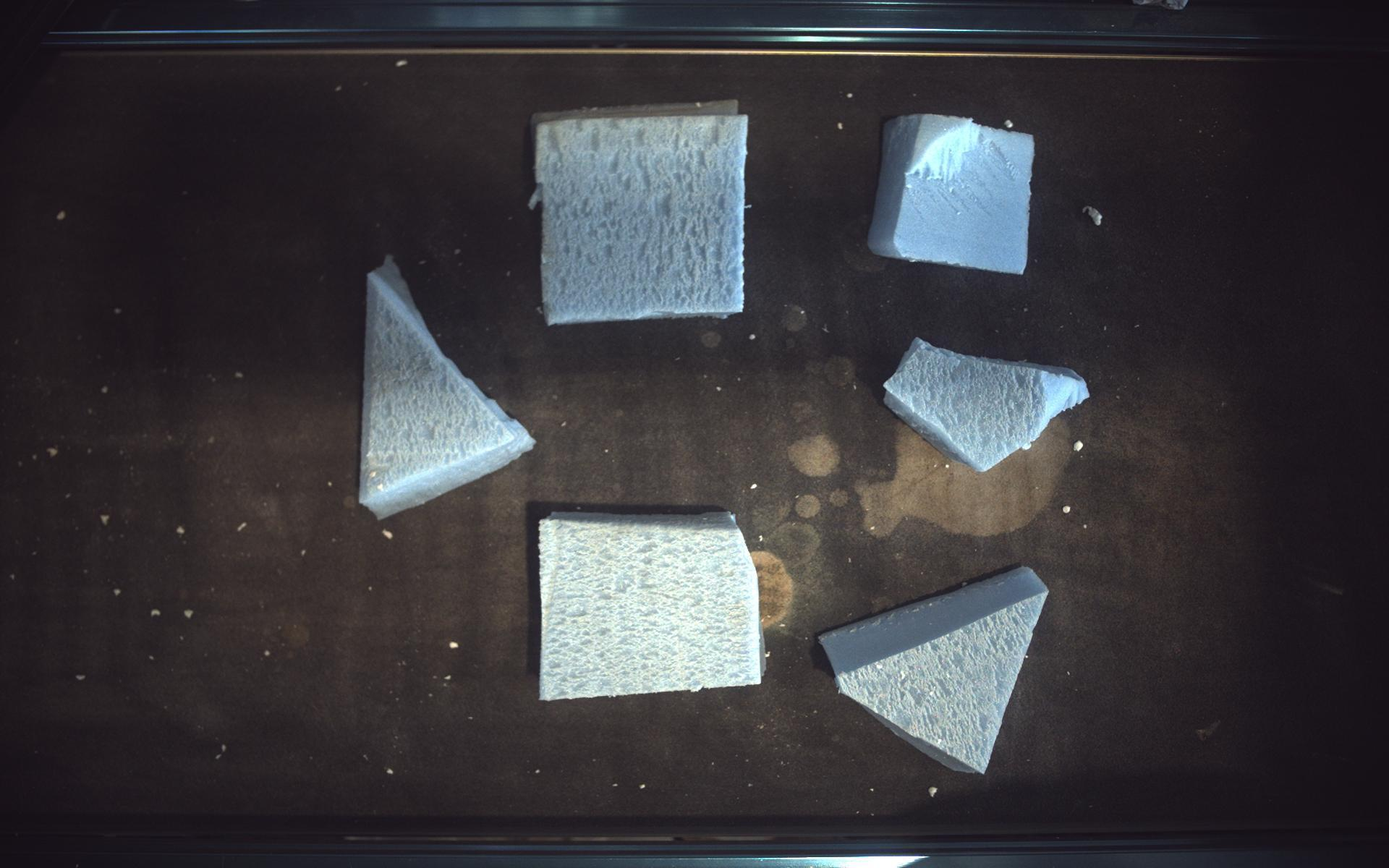foam: (530, 99, 749, 325), (820, 567, 1050, 775), (359, 255, 535, 519), (540, 513, 765, 702), (886, 338, 1092, 472), (869, 114, 1037, 273)
